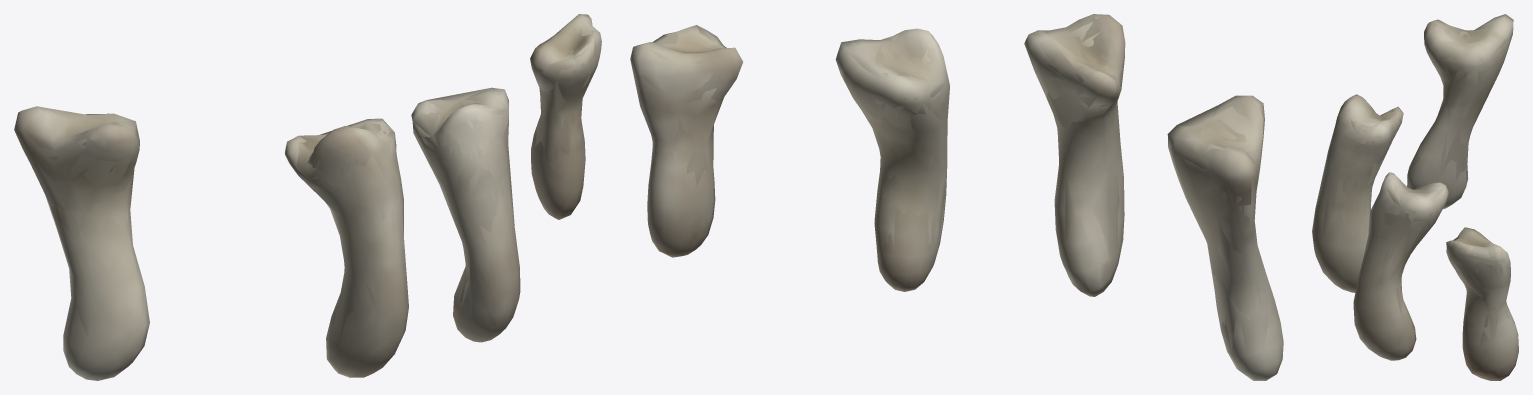
Rendered from LF 2nd Phalanx.fbx.
3 views of the same model, side by side, from view 1: azimuth 30°, elevation 25°; view 2: azimuth 150°, elevation 25°; view 3: azimuth 270°, elevation 25° (orthographic). The views are drawn at different scales.
Visible parts, largest first — view 1: LF 2nd Phalanx, LF 2nd Phalanx low, LF 2nd Phalanx high; view 2: LF 2nd Phalanx, LF 2nd Phalanx low, LF 2nd Phalanx high; view 3: LF 2nd Phalanx, LF 2nd Phalanx low, LF 2nd Phalanx high.
Boxes of the visible parts, x1=… form: LF 2nd Phalanx: x1=14, y1=15, x2=601, y2=380; LF 2nd Phalanx low: x1=14, y1=14, x2=599, y2=380; LF 2nd Phalanx high: x1=32, y1=22, x2=597, y2=360; LF 2nd Phalanx: x1=630, y1=14, x2=1283, y2=380; LF 2nd Phalanx low: x1=632, y1=14, x2=1280, y2=379; LF 2nd Phalanx high: x1=638, y1=19, x2=1278, y2=379; LF 2nd Phalanx: x1=1312, y1=14, x2=1518, y2=380; LF 2nd Phalanx low: x1=1312, y1=15, x2=1512, y2=380; LF 2nd Phalanx high: x1=1320, y1=17, x2=1511, y2=379.
Bounding box in the file's own units: 2.05 × 0.956 × 0.844.
1 material, 1 textured.
